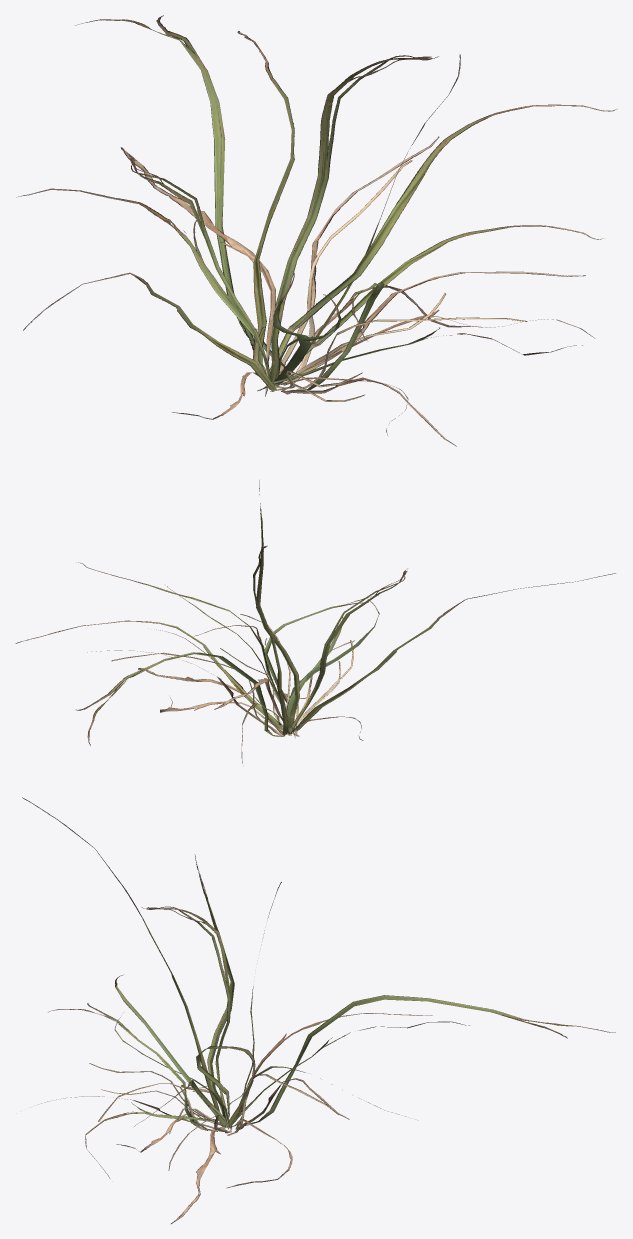
The model's file is Grass_Short_B.fbx.
3 views of the same model, one above another, from view 1: azimuth 30°, elevation 25°; view 2: azimuth 150°, elevation 25°; view 3: azimuth 270°, elevation 25° (orthographic). The views are drawn at different scales.
Visible parts, largest first — view 1: Grass_Short_B; view 2: Grass_Short_B; view 3: Grass_Short_B.
Part boxes in pixels (x1,y1,x2,y2): Grass_Short_B: [16, 15, 617, 446]; Grass_Short_B: [15, 480, 615, 763]; Grass_Short_B: [22, 797, 615, 1223].
Bounding box in the file's own units: 0.25 × 0.115 × 0.2384.
Materials: 1 (1 with a texture image).
